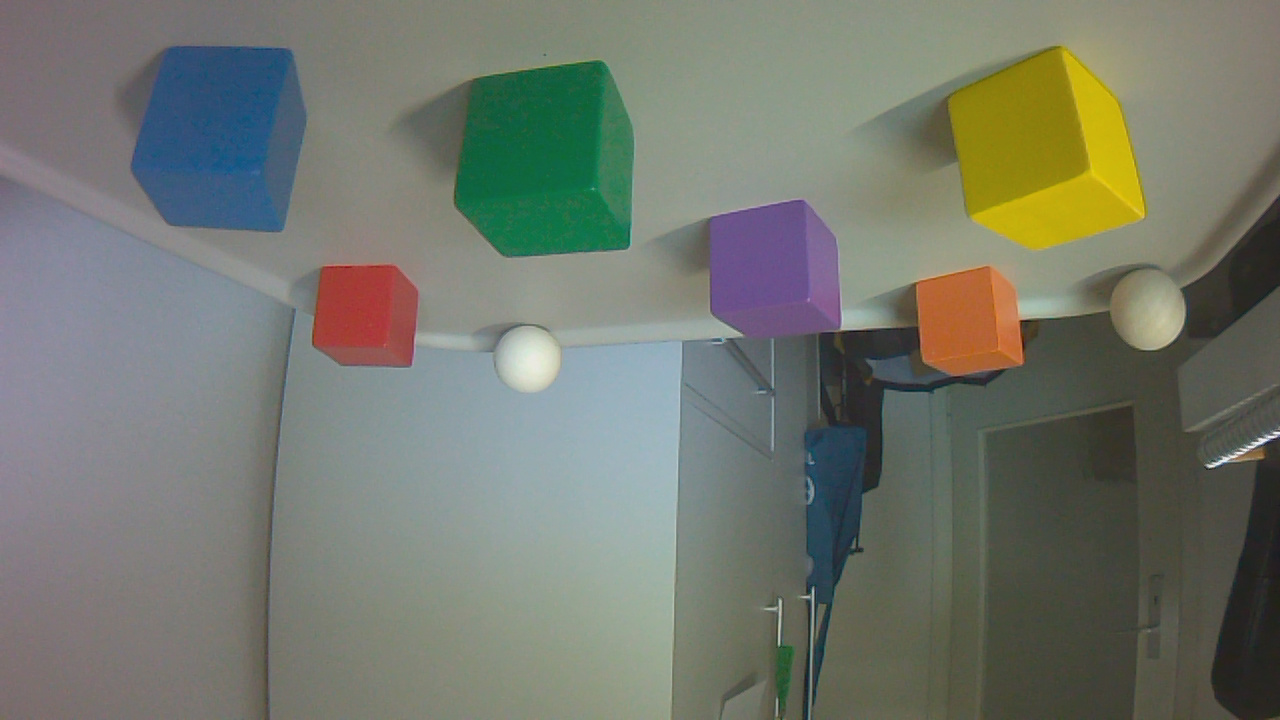ball: (1113, 272, 1191, 356), (498, 327, 566, 399)
cube_blue: (132, 48, 314, 241)
cube_green: (455, 63, 641, 265)
cube_orange: (918, 270, 1030, 384)
cube_purple: (711, 203, 847, 344)
cube_red: (314, 267, 426, 375)
cube_yellow: (949, 49, 1150, 258)
